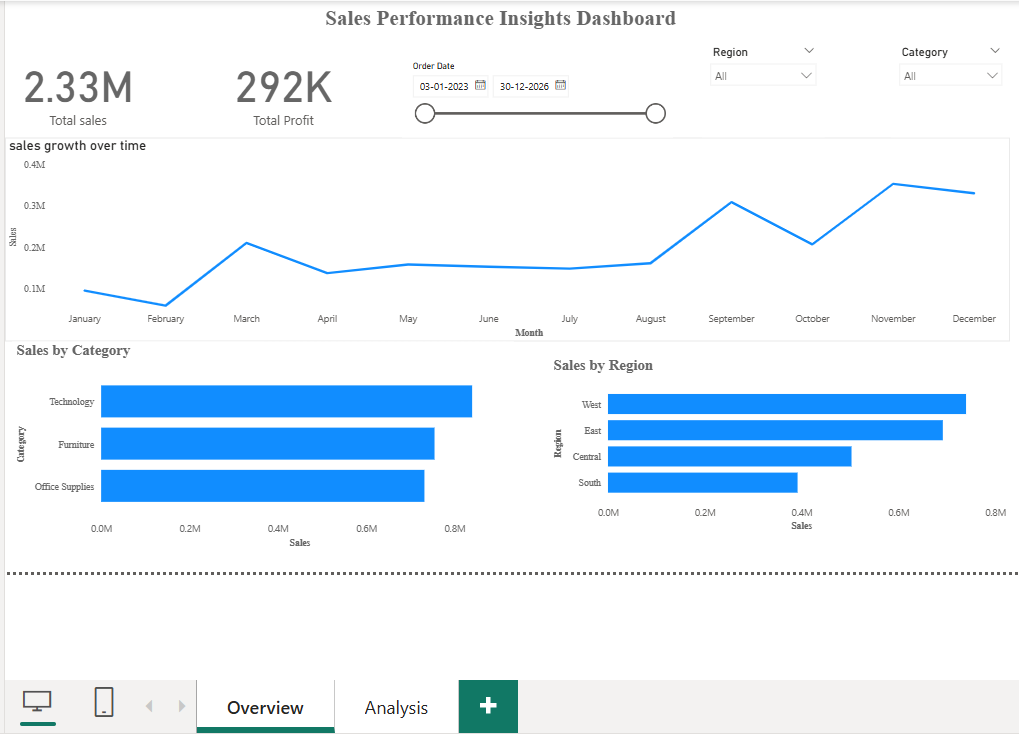

This screenshot's page, from the dashboard's own definition file:
{"tool":"powerbi","page":{"name":"Overview","canvas":[1280,720],"ordinal":0},"visuals":[{"type":"card","fields":{"Values":["sales_data.Total sales"]},"box":[0,51,183.3,120.9],"z":0},{"type":"card","fields":{"Values":["sales_data.Total Profit"]},"box":[260.8,51,179.5,120.9],"z":1000},{"type":"textbox","box":[9.4,0,1230.2,51],"z":2000},{"type":"lineChart","title":"sales growth over time","fields":{"Category":["sales_data.Order Date.Variation.Date Hierarchy.Month"],"Y":["Sum(sales_data.Sales)"]},"box":[0,172,1266.2,257],"z":3000},{"type":"clusteredBarChart","title":"Sales by Category","fields":{"Category":["sales_data.Category"],"Y":["Sum(sales_data.Sales)"]},"box":[9.4,429,631.2,264.6],"z":4000},{"type":"barChart","title":" Sales by Region","fields":{"Category":["sales_data.Region"],"Y":["Sum(sales_data.Sales)"]},"box":[686,447.9,580.2,224.9],"z":5000},{"type":"slicer","fields":{"Values":["sales_data.Order Date"]},"box":[500.8,69.9,340.2,102],"z":6000},{"type":"slicer","fields":{"Values":["sales_data.Region"]},"box":[878.7,51,153.1,120.9],"z":7000},{"type":"slicer","fields":{"Values":["sales_data.Category"]},"box":[1116.9,51,149.3,120.9],"z":8000}]}

Visuals, with their boxes on the page's 1280x720 design canvas (x1, y1, x2, y2). These are canvas units, not pixel positions in the 1019x734 screenshot, which may show the page scaled, cropped or inside an application window:
card - sales_data.Total sales: <region>0, 51, 183, 172</region>
card - sales_data.Total Profit: <region>261, 51, 440, 172</region>
textbox: <region>9, 0, 1240, 51</region>
"sales growth over time" lineChart: <region>0, 172, 1266, 429</region>
"Sales by Category" clusteredBarChart: <region>9, 429, 641, 694</region>
" Sales by Region" barChart: <region>686, 448, 1266, 673</region>
slicer - sales_data.Order Date: <region>501, 70, 841, 172</region>
slicer - sales_data.Region: <region>879, 51, 1032, 172</region>
slicer - sales_data.Category: <region>1117, 51, 1266, 172</region>
